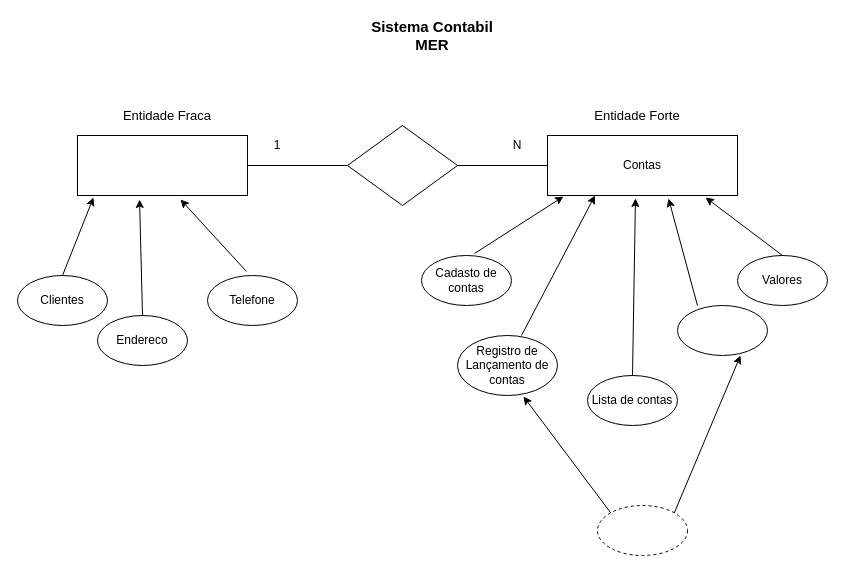
The diagram is 845 pixels wide and 573 high, and some of its shapes have lost their labels. The shapes that lost their labels are listed below. From the top down, each one's centre as x and y in pixels, then its label:
pixel 162 165: Contador
pixel 402 165: Possui
pixel 722 330: Relatorio
pixel 642 530: Calculo do Balanço
